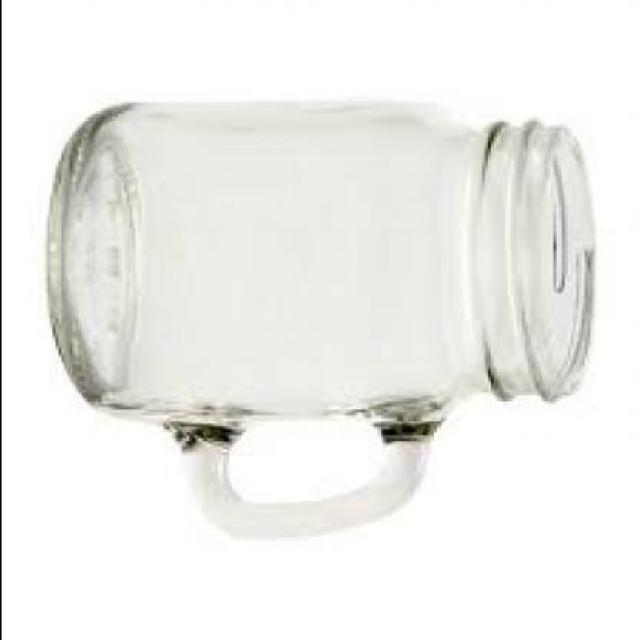GLASS: (48, 102, 598, 535)
